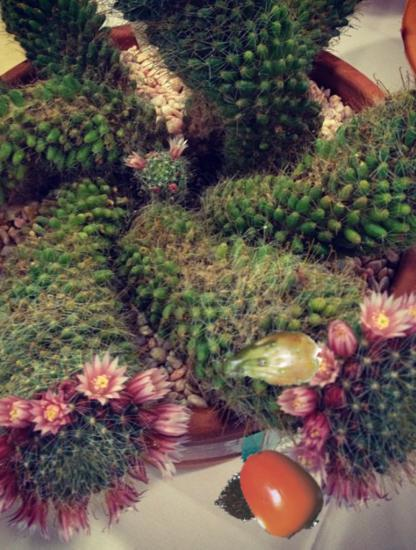Cactus: (221, 311, 324, 414)
Kaki: (231, 445, 327, 541)
Rambutan: (212, 465, 279, 532)
